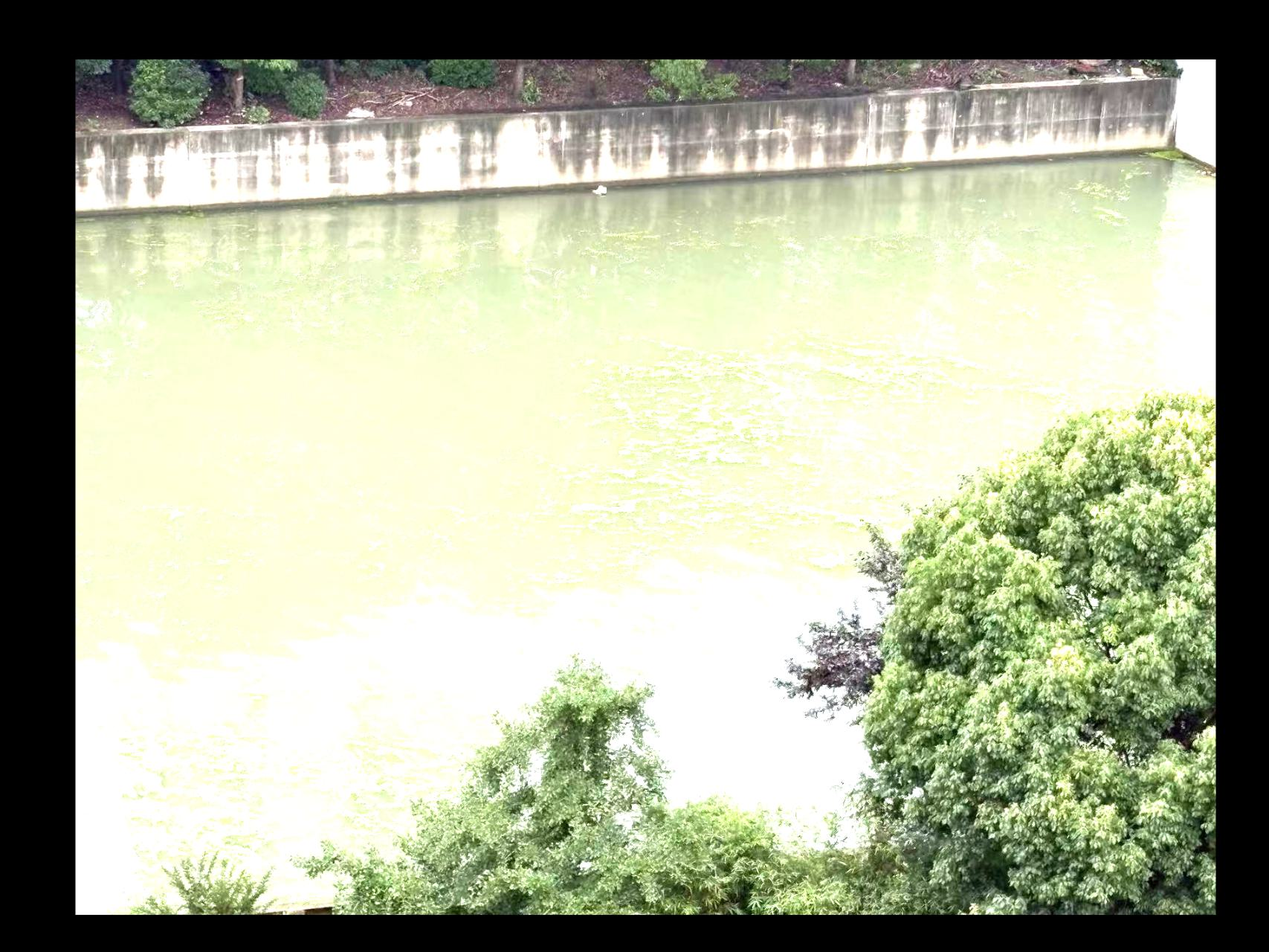Other: (88, 731, 293, 849), (621, 402, 771, 460), (295, 735, 418, 805), (823, 344, 987, 389), (606, 352, 772, 387)
Plastic wastes: (592, 184, 609, 195)
